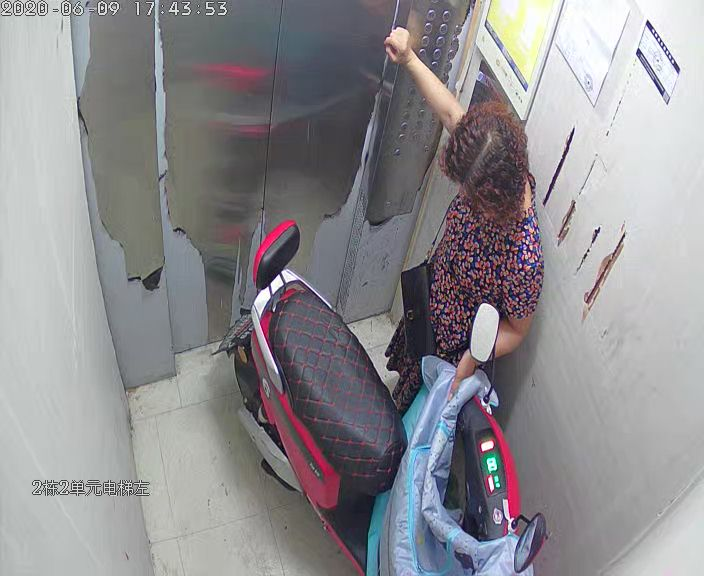Electric-bicycle: (241, 222, 544, 574)
